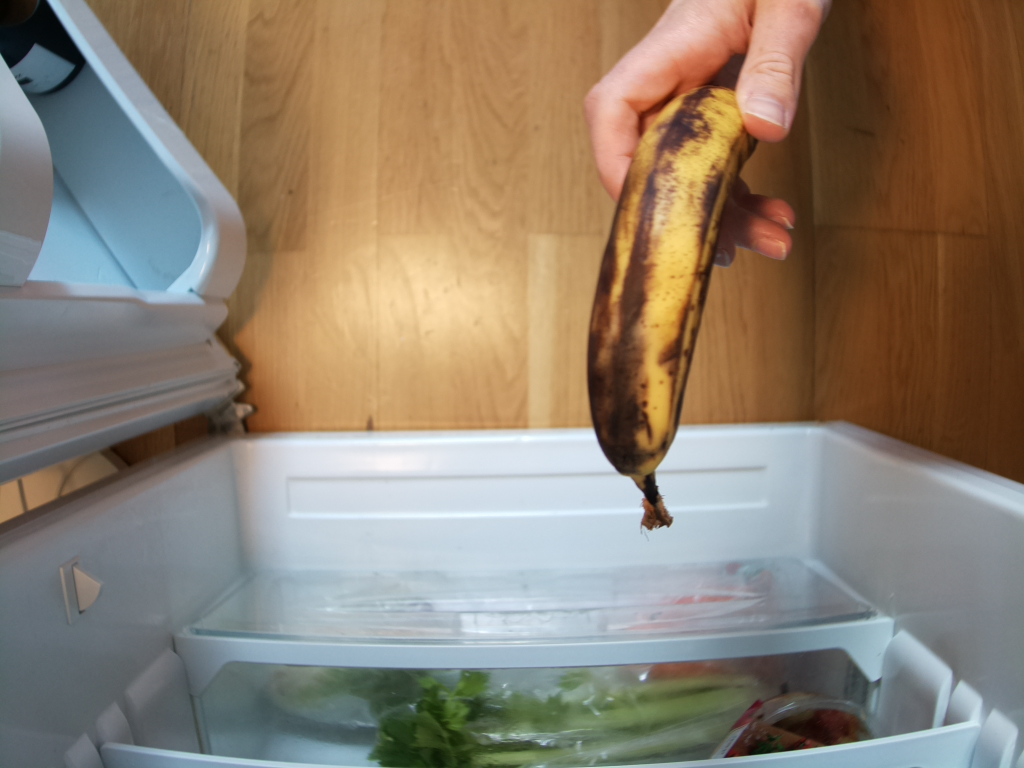banana-overripe: (589, 84, 756, 528)
